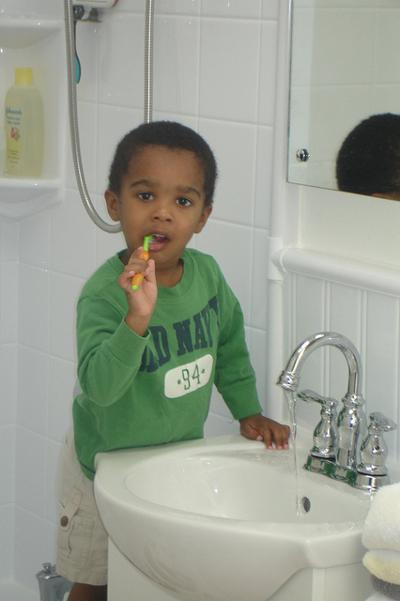person: (57, 121, 290, 601)
